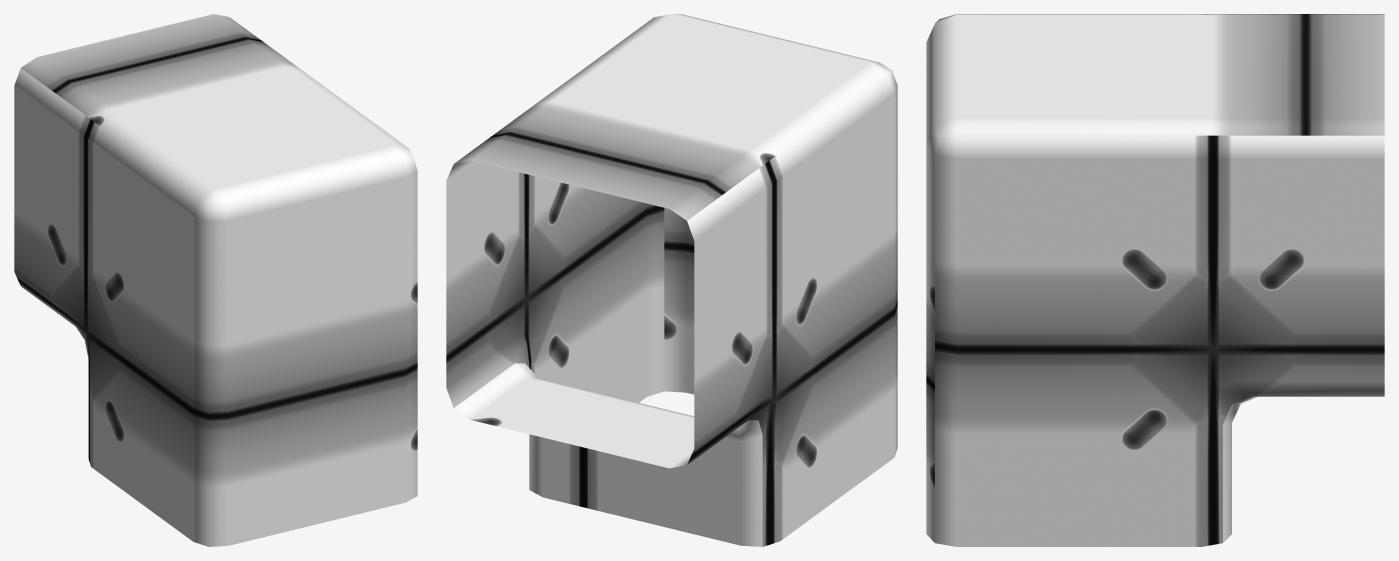
File: MDL_Trim_Corner.fbx
3 views of the same model, side by side, from view 1: azimuth 30°, elevation 25°; view 2: azimuth 150°, elevation 25°; view 3: azimuth 270°, elevation 25° (orthographic). The views are drawn at different scales.
Visible parts, largest first — view 1: trimCorner; view 2: trimCorner; view 3: trimCorner.
Part boxes in pixels (x1,y1,x2,y2): trimCorner: (14, 14, 417, 546); trimCorner: (446, 14, 897, 546); trimCorner: (926, 14, 1384, 546).
Size of the model in its own units: 0.5 by 0.75 by 0.75.
